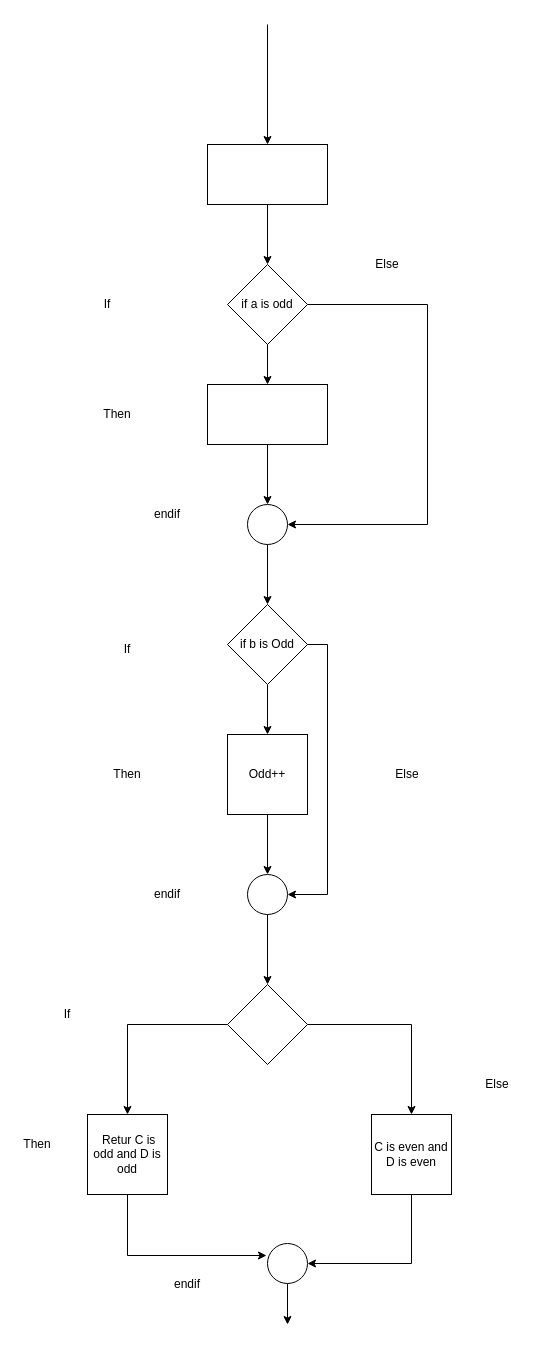
The diagram is 534 pixels wide and 1350 high, and some of its shapes have lost their labels. The shapes that lost their labels are listed below. From the top down, each one's centre as x and y in pixels, then its label:
At (267,174): "c = a + b d = a - b odd = 0".
At (267,414): "Odd ++".
At (267,1024): "Odd == 1".
